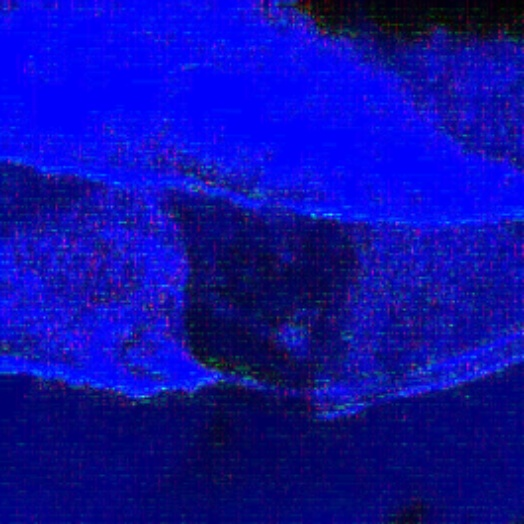rip_current: (122, 116, 389, 416)
